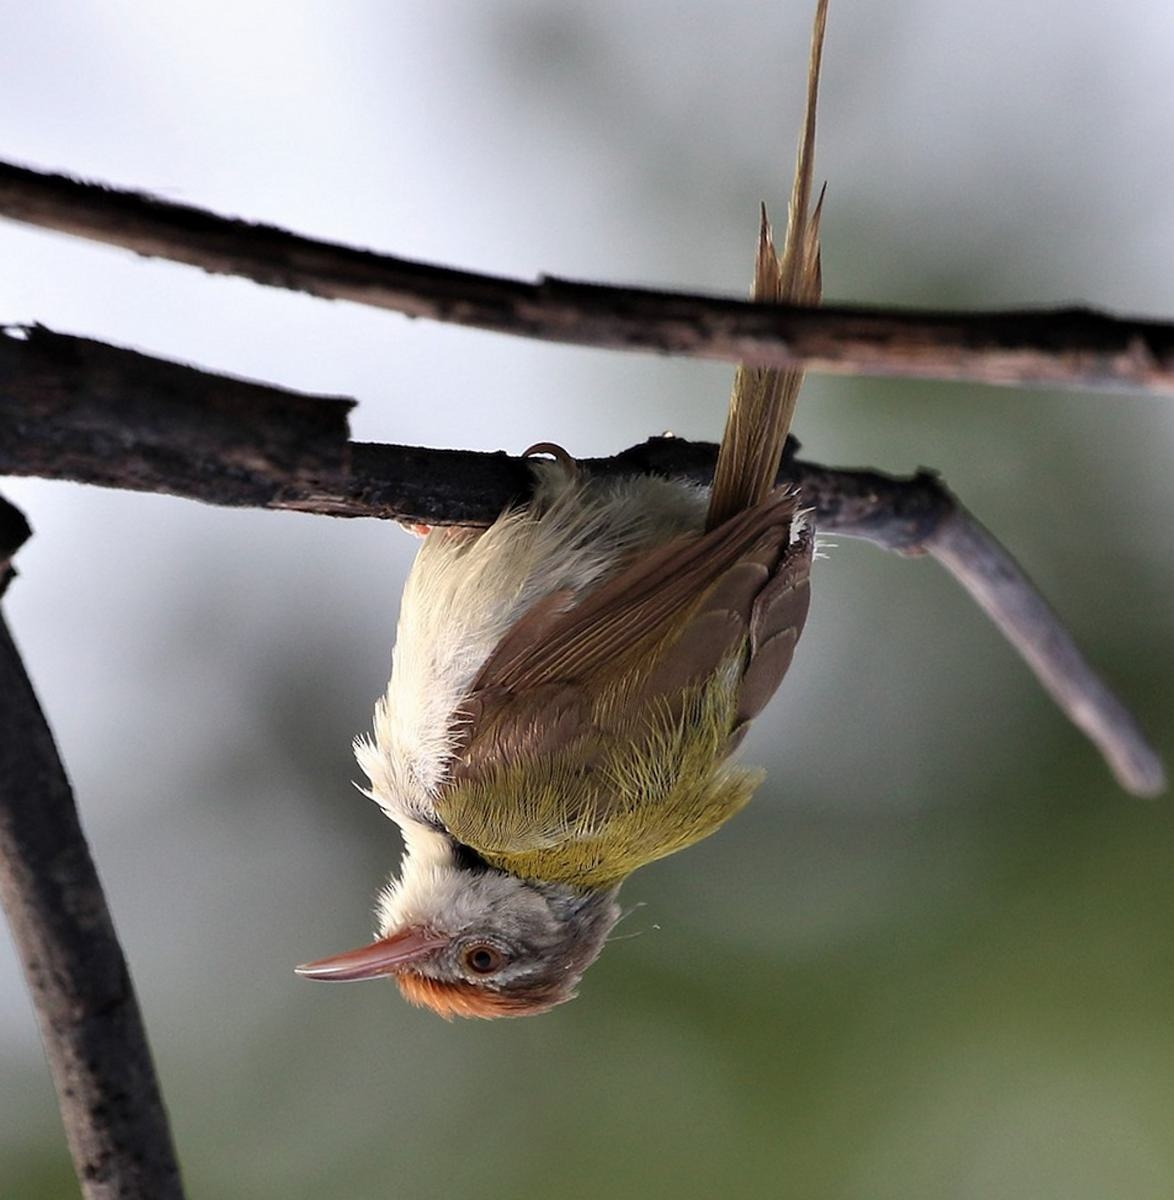tailorbird: (254, 189, 937, 1092)
